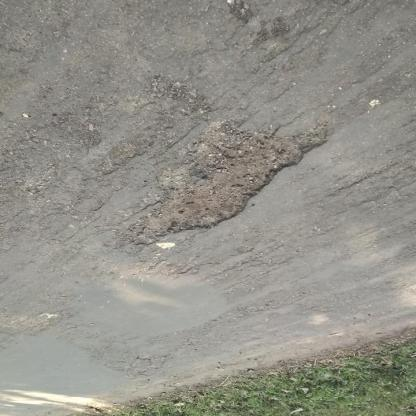pothole: (123, 116, 334, 250)
